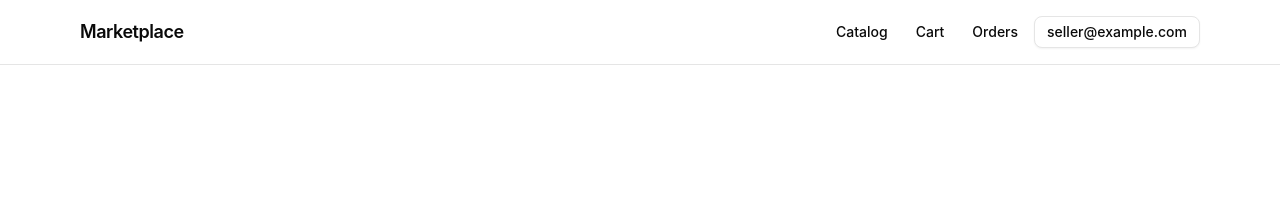
Test case: SiteHeader › shows a seller dashboard link for an approved seller
Click the button "seller@example.com" at (1117, 32), box [1034, 16, 1200, 48]
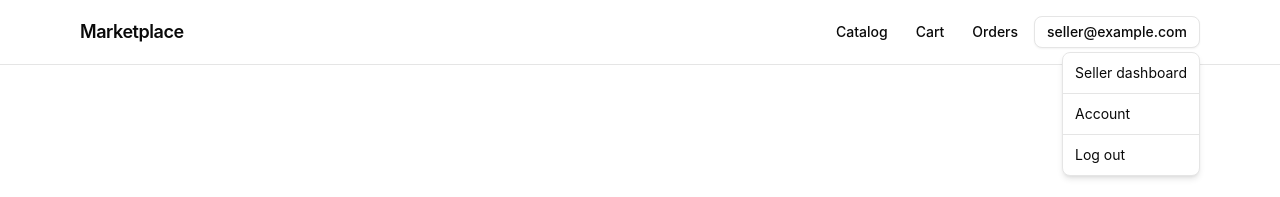
Result: the menu item "Seller dashboard" is shown at [1075, 64, 1187, 81]
